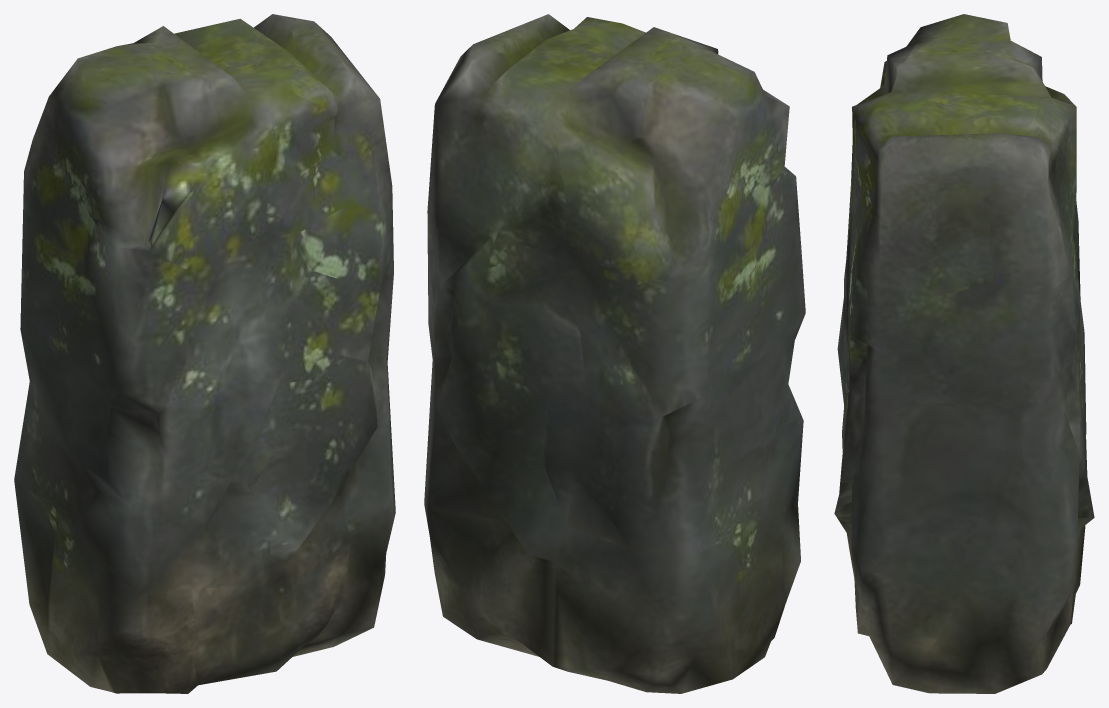
File: sarsen_stone_lo.glb
3 views of the same model, side by side, from view 1: azimuth 30°, elevation 25°; view 2: azimuth 150°, elevation 25°; view 3: azimuth 270°, elevation 25° (orthographic). The views are drawn at different scales.
Parts seen in each view (by area): view 1: tripo_node_ab7e2894-2038-4ec9-9a18-5aed3b9e89f3; view 2: tripo_node_ab7e2894-2038-4ec9-9a18-5aed3b9e89f3; view 3: tripo_node_ab7e2894-2038-4ec9-9a18-5aed3b9e89f3.
Part boxes in pixels (x1,y1,x2,y2): tripo_node_ab7e2894-2038-4ec9-9a18-5aed3b9e89f3: (14, 14, 395, 693); tripo_node_ab7e2894-2038-4ec9-9a18-5aed3b9e89f3: (424, 14, 805, 693); tripo_node_ab7e2894-2038-4ec9-9a18-5aed3b9e89f3: (834, 14, 1094, 693).
Size of the model in its own units: 0.4929 by 0.977 by 0.4086.
1 material, 1 textured.
